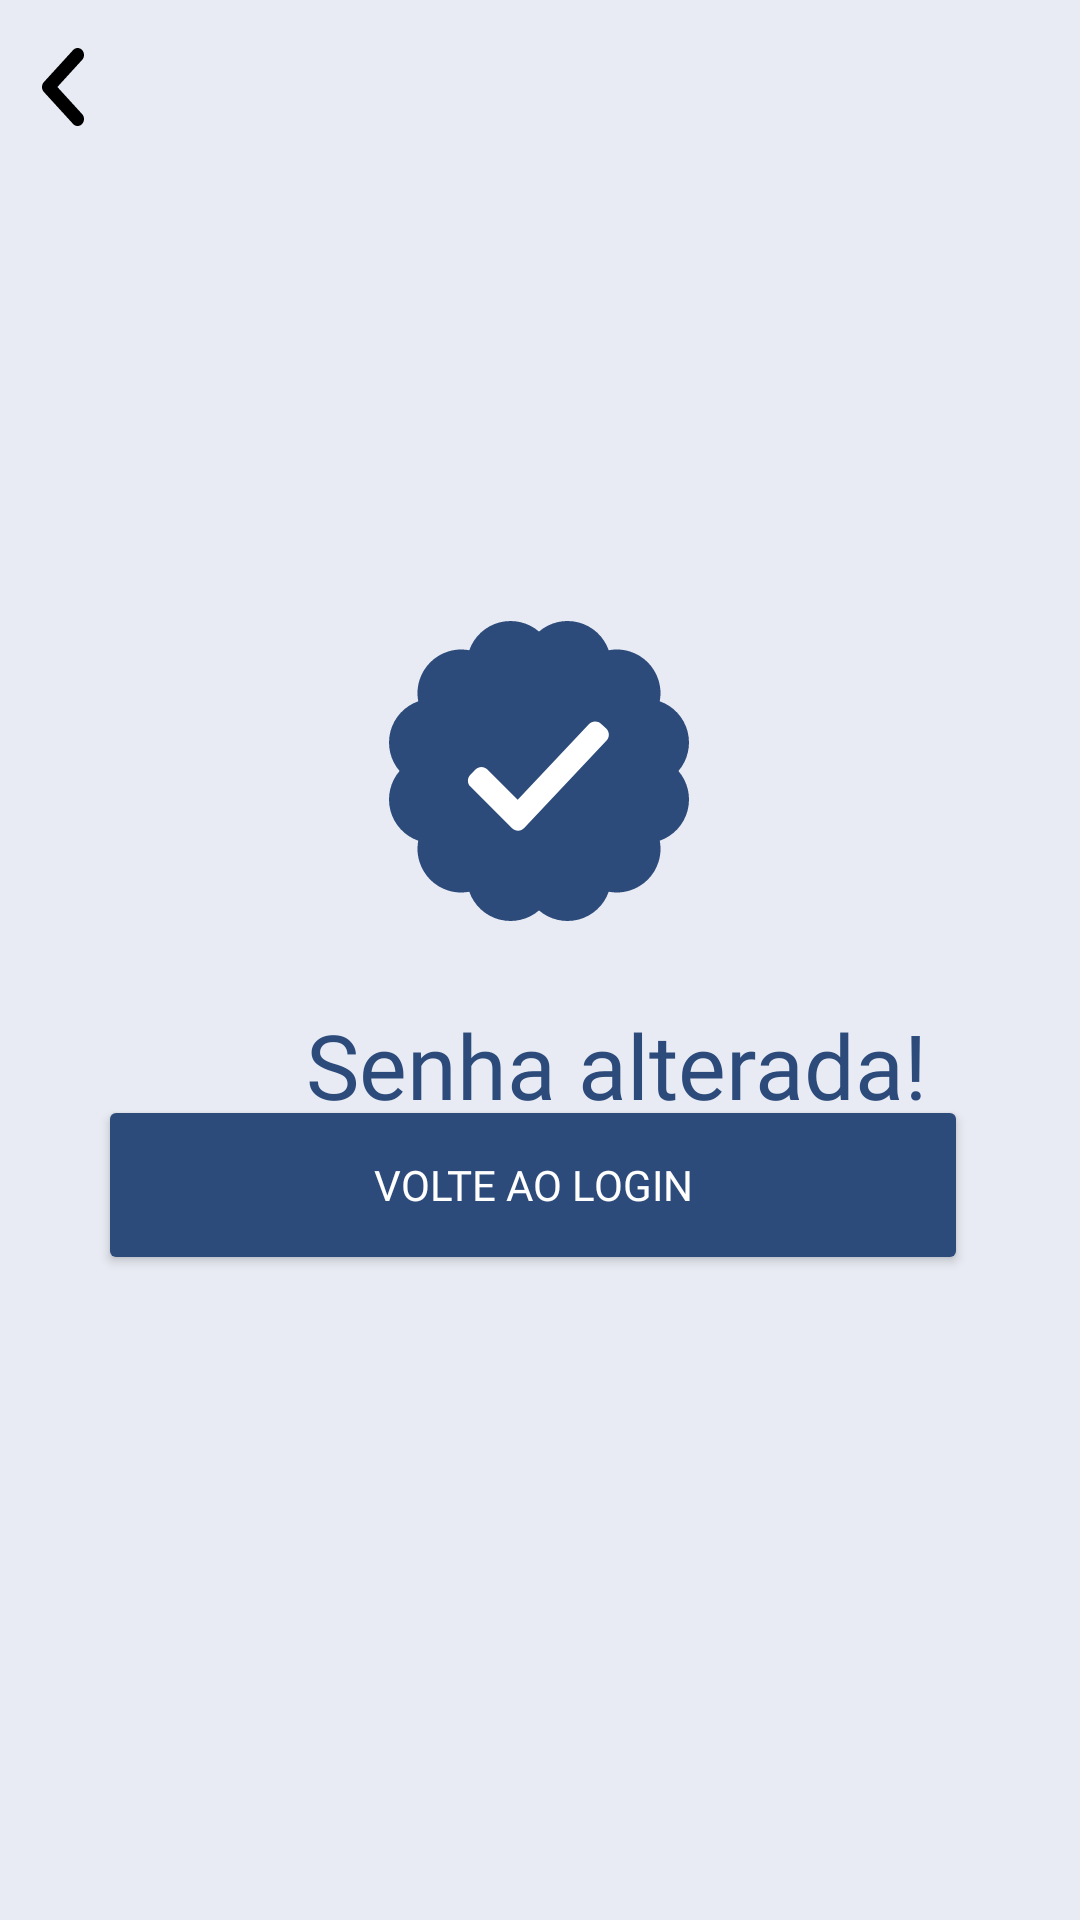

Named icons in this screenshot (1080 x 1920) and their centers, point (x, y):
seta: point (63, 87)
